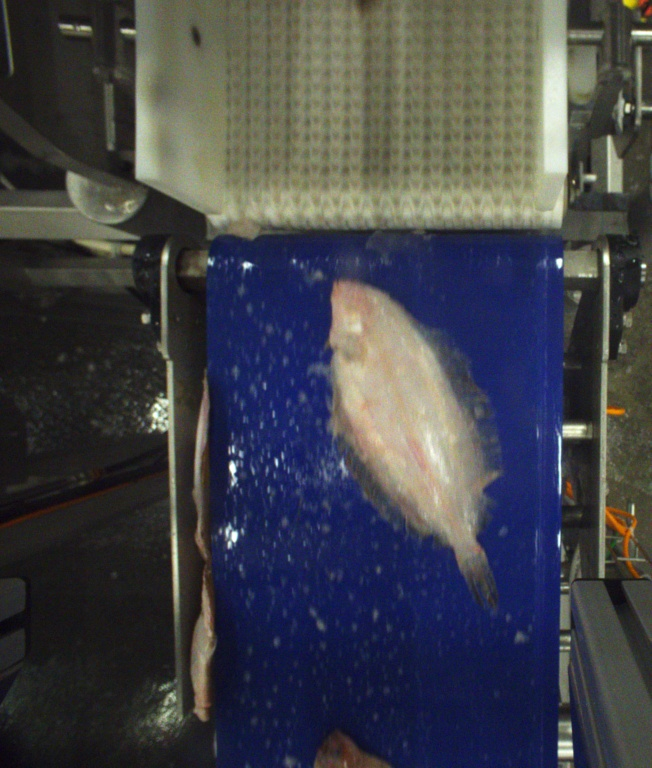WIT: (328, 278, 504, 617)
